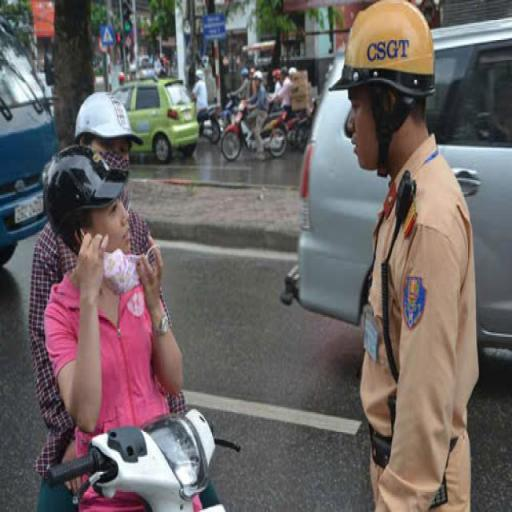with helmet: (328, 0, 438, 105), (36, 146, 138, 221), (76, 88, 154, 146)
